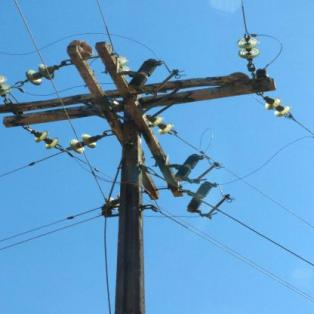Poste: (107, 96, 155, 314)
